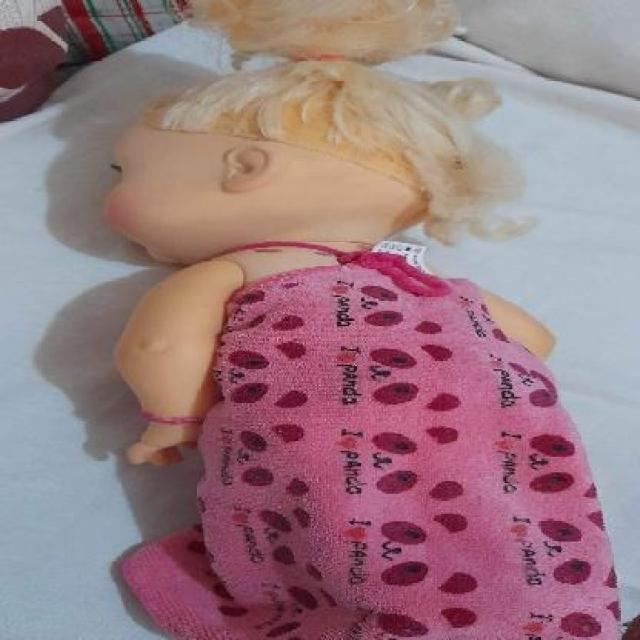child: (99, 53, 619, 639)
